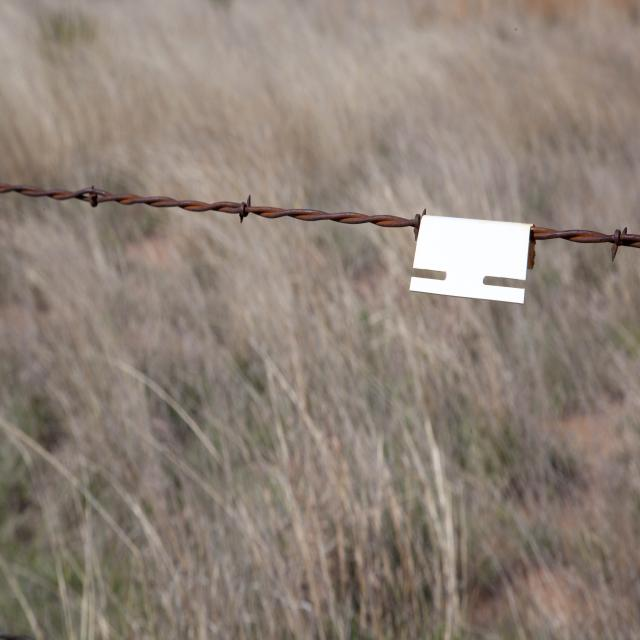corrosion: (0, 154, 640, 421)
